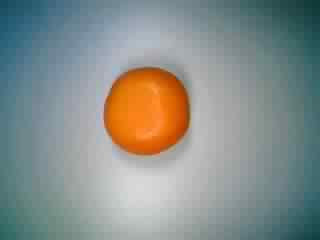orange: (101, 64, 196, 166)
